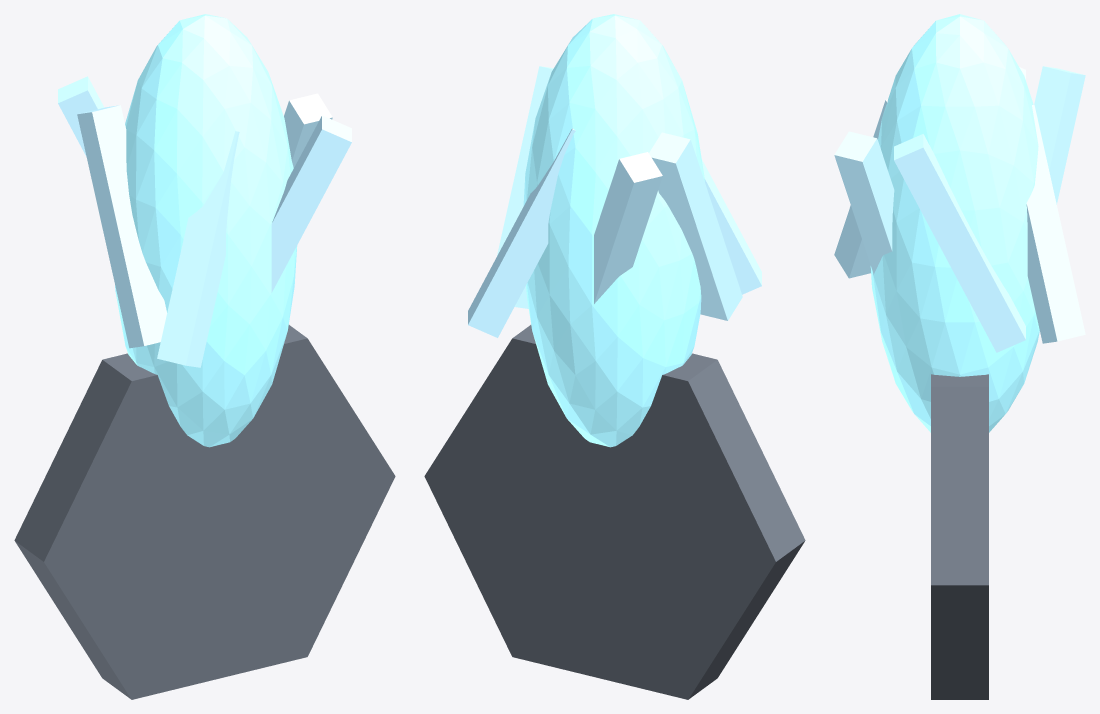
The model's file is arcane_crystal.glb.
The picture shows the model from 3 angles, left to right: view 1: azimuth 30°, elevation 25°; view 2: azimuth 150°, elevation 25°; view 3: azimuth 270°, elevation 25°; orthographic projection.
Visible parts, largest first — view 1: base, core, shard_3, shard_2, shard_1, shard_0, shard_4; view 2: base, core, shard_3, shard_5, shard_4, shard_2, shard_0; view 3: core, base, shard_0, shard_5, shard_1, shard_4, shard_2.
Part boxes in pixels (x1=…): base: x1=14, y1=325, x2=395, y2=699; core: x1=115, y1=14, x2=297, y2=447; shard_3: x1=77, y1=105, x2=166, y2=348; shard_2: x1=157, y1=131, x2=239, y2=367; shard_1: x1=271, y1=115, x2=351, y2=292; shard_0: x1=284, y1=93, x2=332, y2=167; shard_4: x1=58, y1=76, x2=104, y2=156; base: x1=424, y1=325, x2=805, y2=699; core: x1=523, y1=14, x2=704, y2=447; shard_3: x1=649, y1=132, x2=742, y2=320; shard_5: x1=468, y1=128, x2=575, y2=337; shard_4: x1=594, y1=152, x2=662, y2=303; shard_2: x1=701, y1=159, x2=761, y2=294; shard_0: x1=497, y1=66, x2=553, y2=308; core: x1=870, y1=14, x2=1039, y2=432; base: x1=931, y1=374, x2=988, y2=699; shard_0: x1=894, y1=134, x2=1025, y2=352; shard_5: x1=1026, y1=104, x2=1085, y2=343; shard_1: x1=834, y1=131, x2=894, y2=274; shard_4: x1=1034, y1=66, x2=1085, y2=204; shard_2: x1=834, y1=99, x2=887, y2=278.
Bounding box in the file's own units: 2.2 × 3.9 × 1.39.
